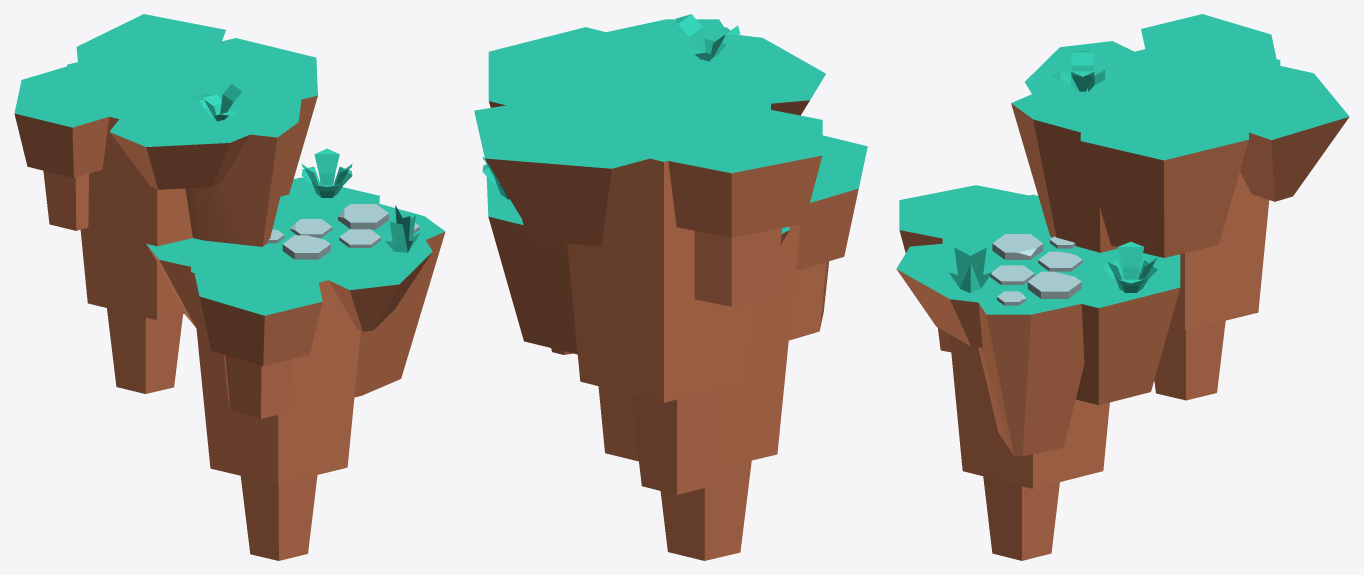
Rendered from SmallDualRocks.glb.
3 renders of one model, left to right at view 1: azimuth 30°, elevation 25°; view 2: azimuth 150°, elevation 25°; view 3: azimuth 270°, elevation 25°, orthographic. The views are drawn at different scales.
Parts seen in each view (by area): view 1: rock_tallB (×2), path_stone, plant_bushLarge, plant_bush, plant_flatTall; view 2: rock_tallB (×2), plant_bush; view 3: rock_tallB (×2), path_stone, plant_bushLarge, plant_bush, plant_flatTall.
Boxes of the visible parts, x1,y1,x2,y2 form: rock_tallB (×2): (14,14,445,560); path_stone: (267,204,419,259); plant_bushLarge: (301,148,352,197); plant_bush: (192,83,244,121); plant_flatTall: (385,205,420,252); rock_tallB (×2): (474,19,867,560); plant_bush: (675,14,740,61); rock_tallB (×2): (896,14,1349,560); path_stone: (990,234,1082,305); plant_bushLarge: (1104,242,1157,292); plant_bush: (1051,50,1114,91); plant_flatTall: (949,247,991,293).
Bounding box in the file's own units: 2.51 × 3.22 × 2.83.
